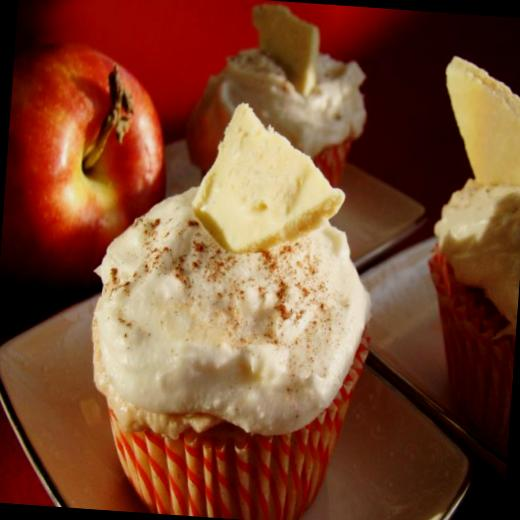Apple: (2, 36, 191, 290)
